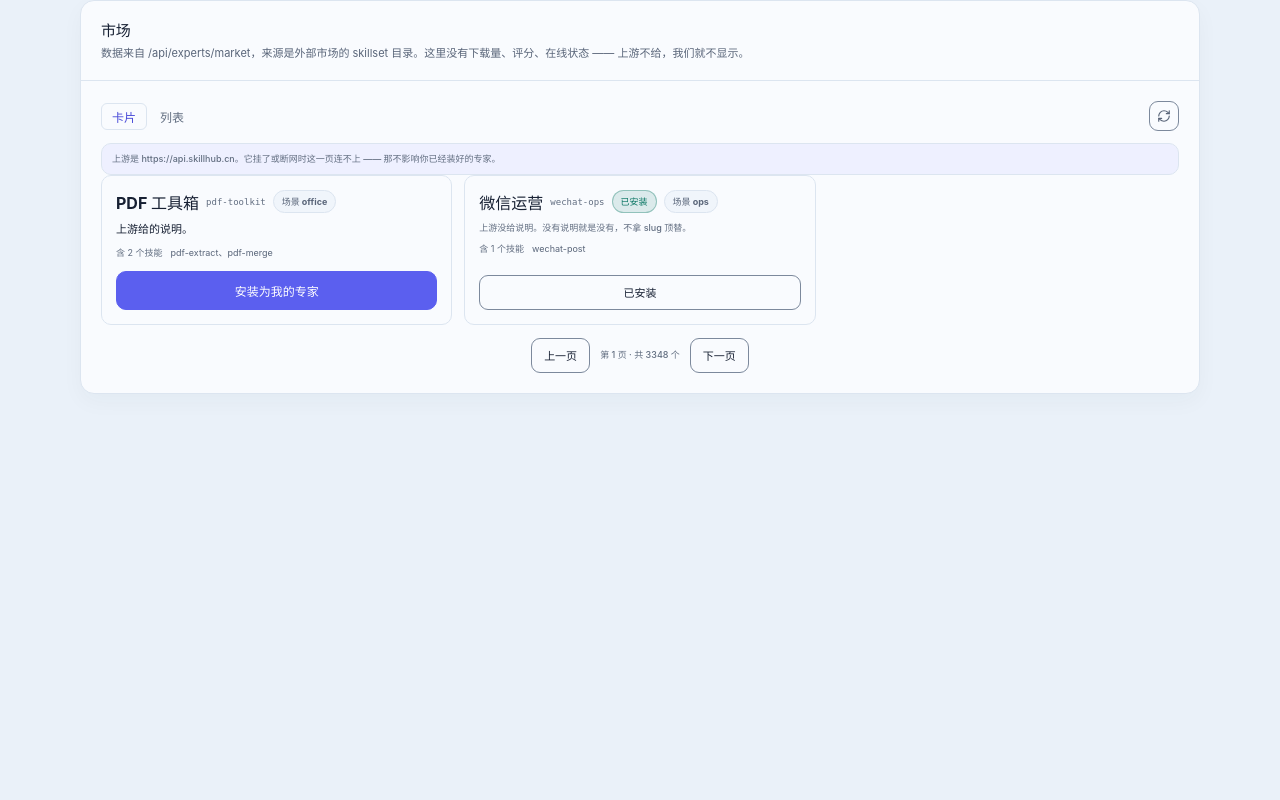
Test: 安装后逐条显示三种技能状态、失败原因、人格来源与停用提示
Expected: the list item that starts with "PDF 工具箱" is shown, top-left (101, 175), bottom-right (452, 325)
Step 1. Click the button "安装为我的专家" → click(277, 290), box top-left (116, 271), bottom-right (437, 310)
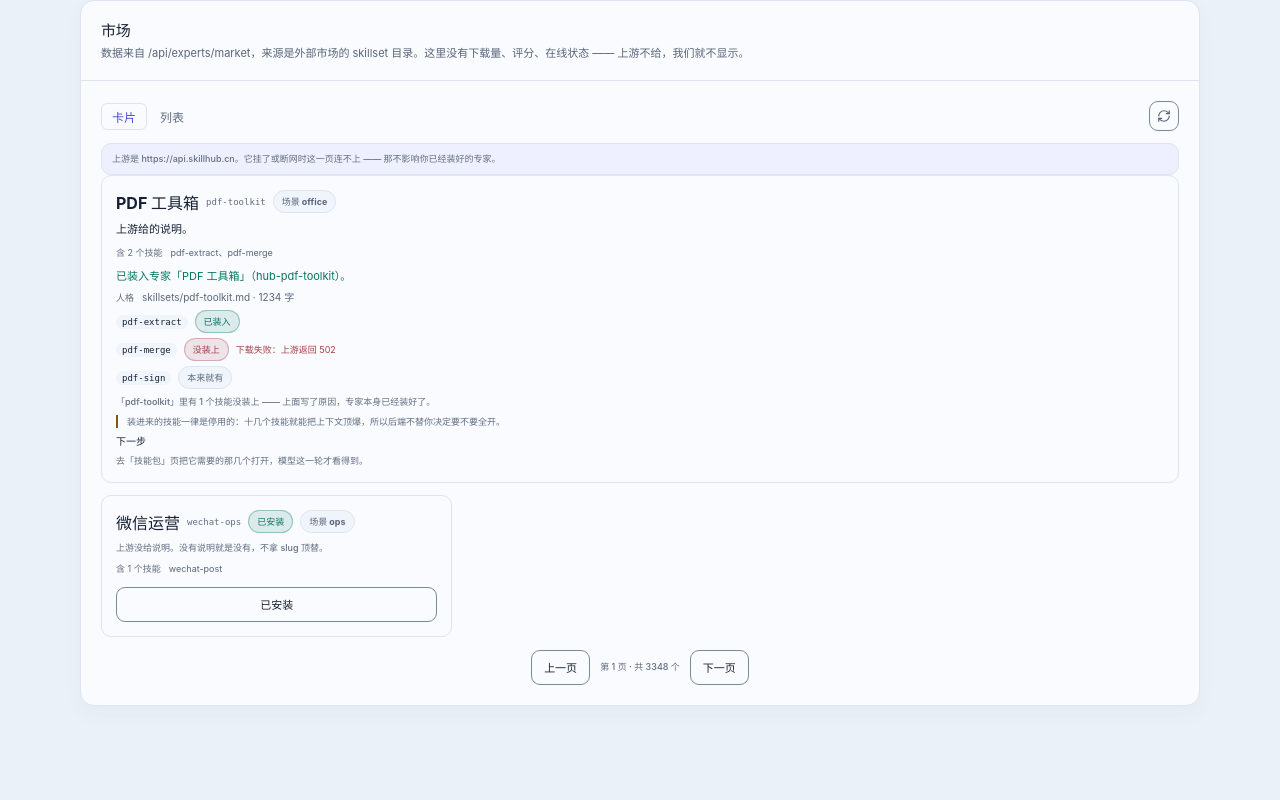
Result: the text "已装入专家「PDF 工具箱」（hub-pdf-toolkit）。" is shown at top-left (116, 269), bottom-right (351, 283)
Result: the text "已装入" is shown at top-left (195, 310), bottom-right (240, 333)
Result: the text "本来就有" is shown at top-left (178, 366), bottom-right (232, 389)
